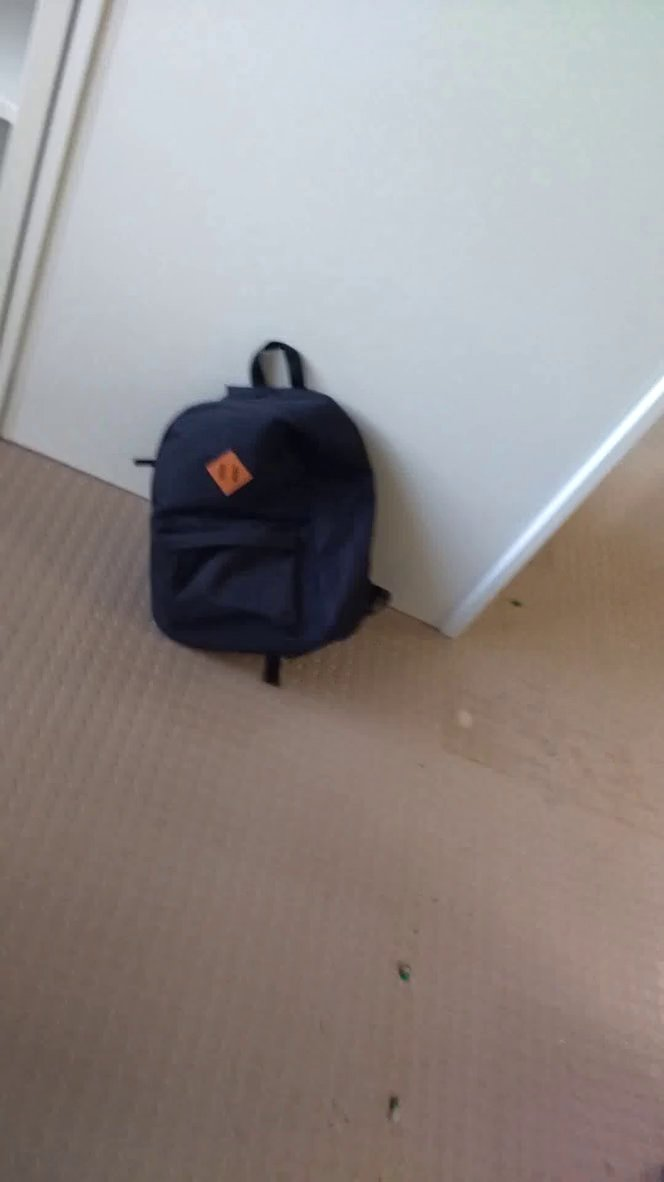bag: (124, 330, 427, 695)
